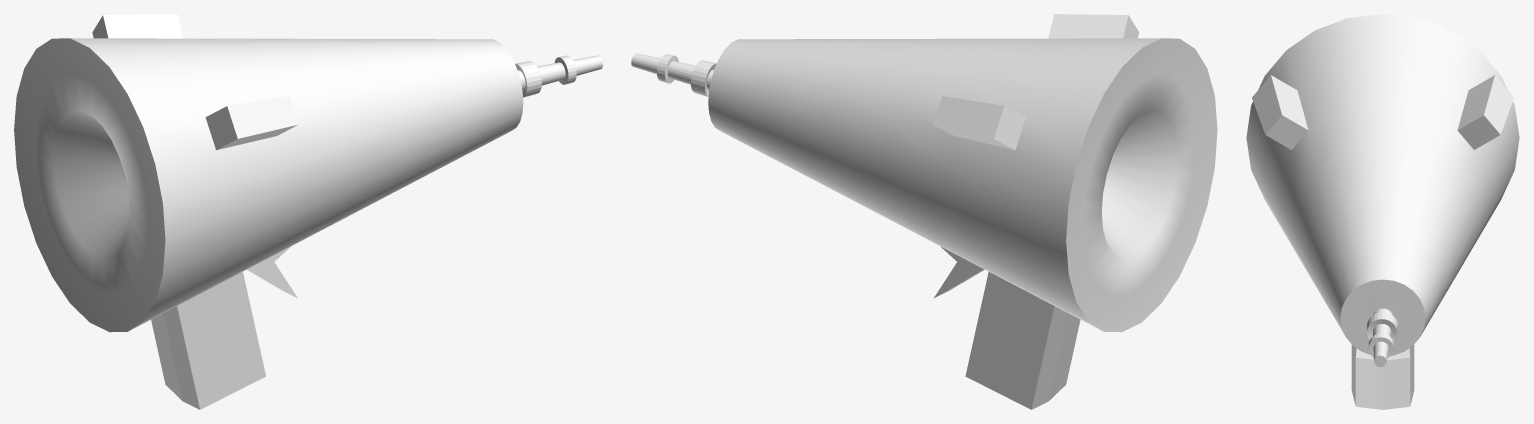
File: Gun.FBX
3 renders of one model, left to right at view 1: azimuth 30°, elevation 25°; view 2: azimuth 150°, elevation 25°; view 3: azimuth 270°, elevation 25°, orthographic. The views are drawn at different scales.
Parts seen in each view (by area): view 1: Cone001; view 2: Cone001; view 3: Cone001.
Part boxes in pixels (x1,y1,x2,y2): Cone001: (14, 14, 602, 409); Cone001: (631, 14, 1217, 409); Cone001: (1246, 14, 1519, 409).
Size of the model in its own units: 7.88 by 4.06 by 5.57.
Materials: 1 (1 with a texture image).
